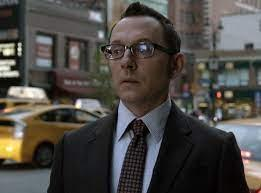Persons: (99, 3, 190, 117)
